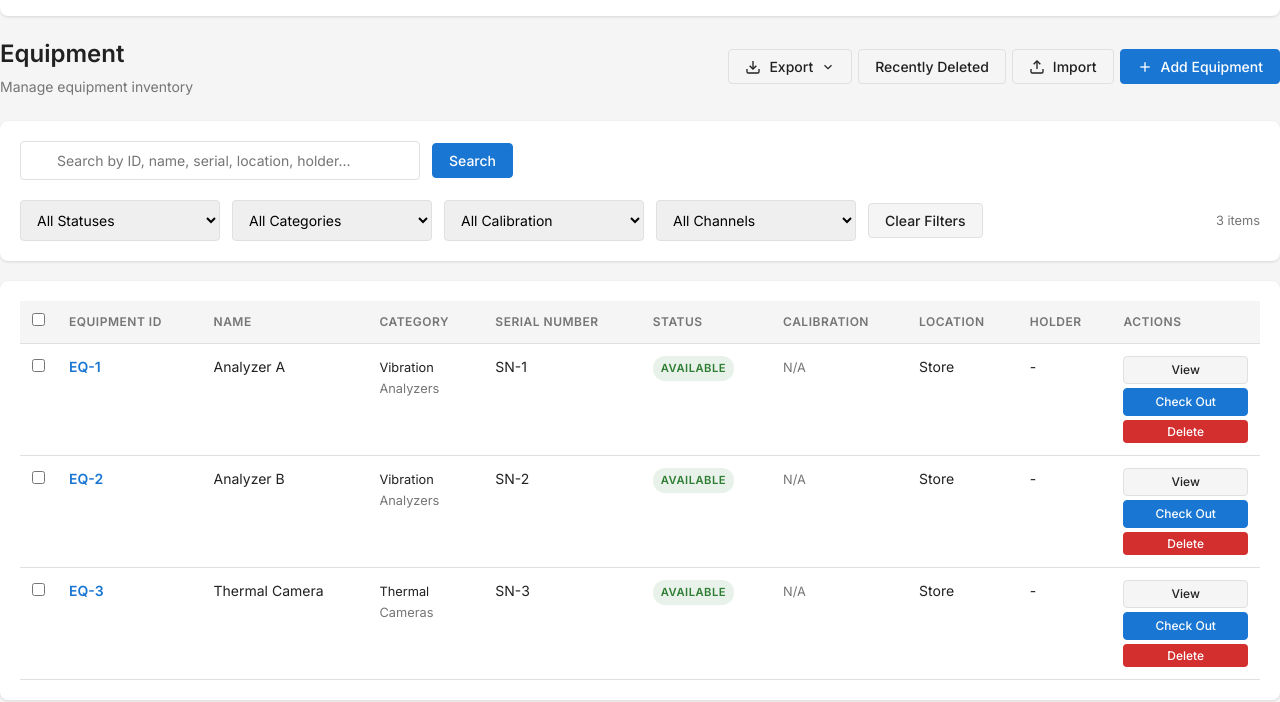
Test: Equipment bulk edit › Bulk Edit opens with the selected count shown
(page scrolled)
Step 1. Click the checkbox named "Select EQ-1" → x=38, y=366, box [32, 359, 45, 372]
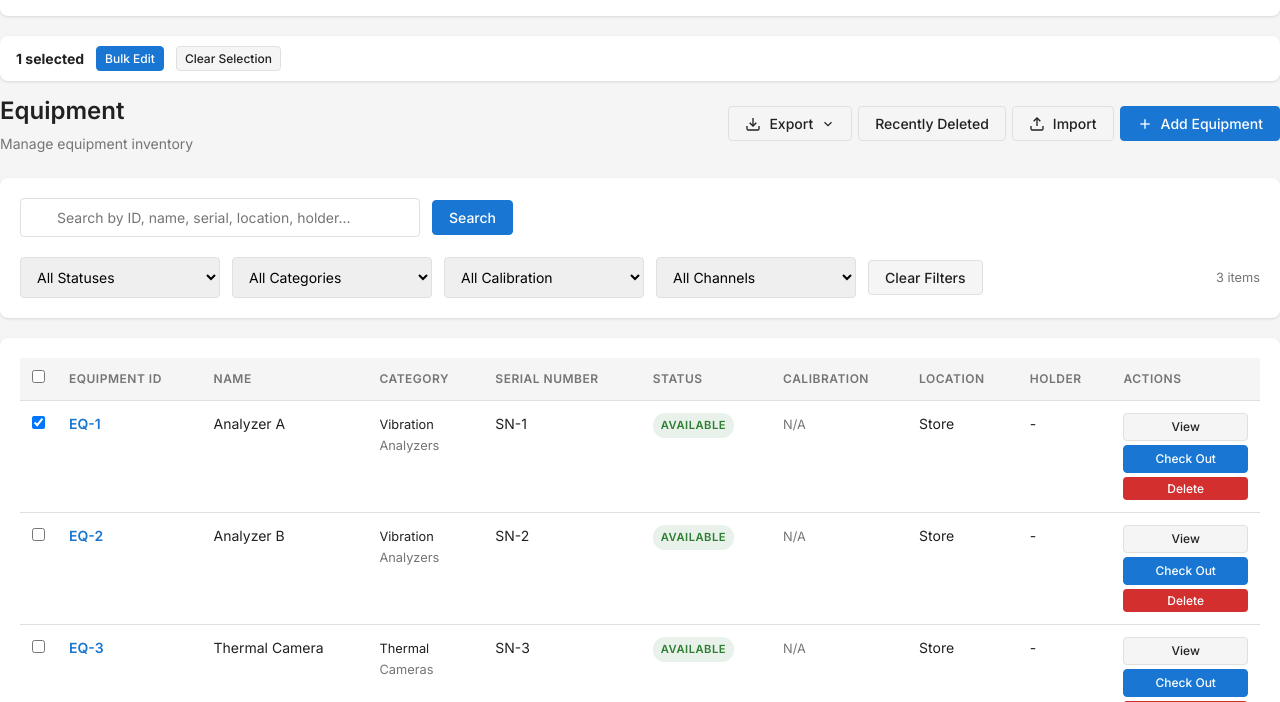
Step 2. Click the checkbox named "Select EQ-2" → x=38, y=534, box [32, 528, 45, 541]
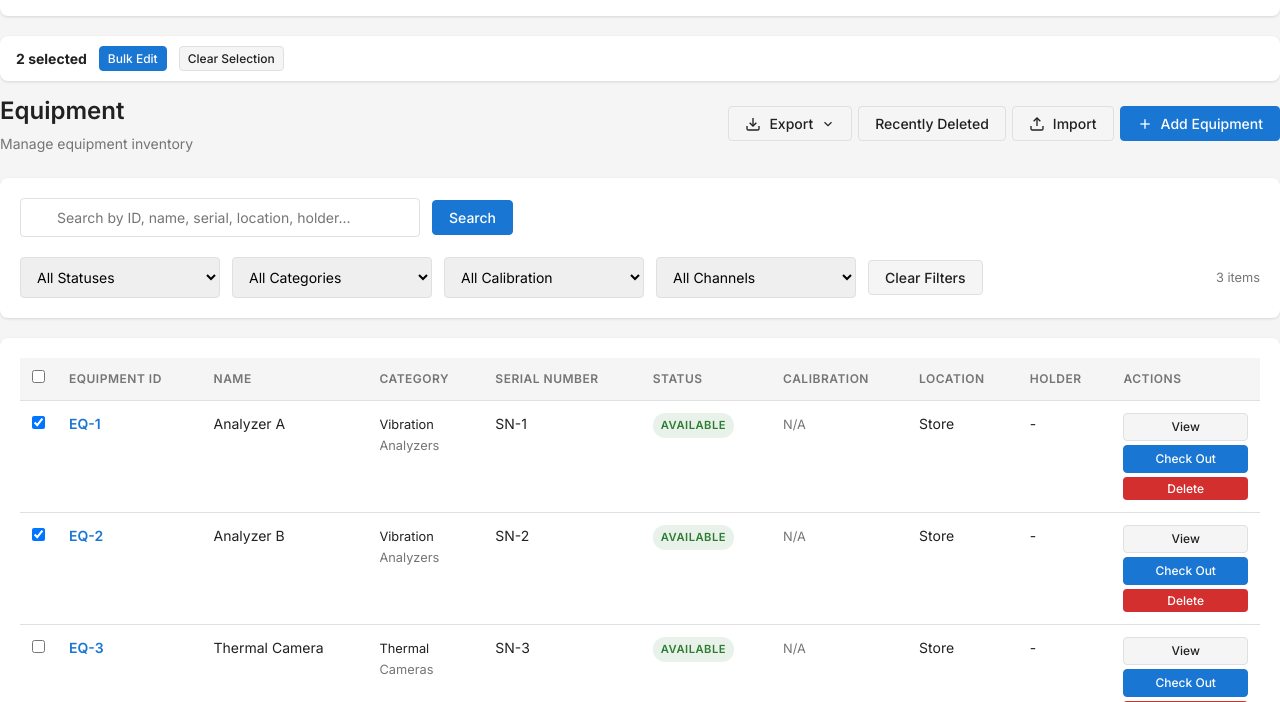
Step 3. Click the button "Bulk Edit" → x=133, y=58, box [99, 46, 167, 71]
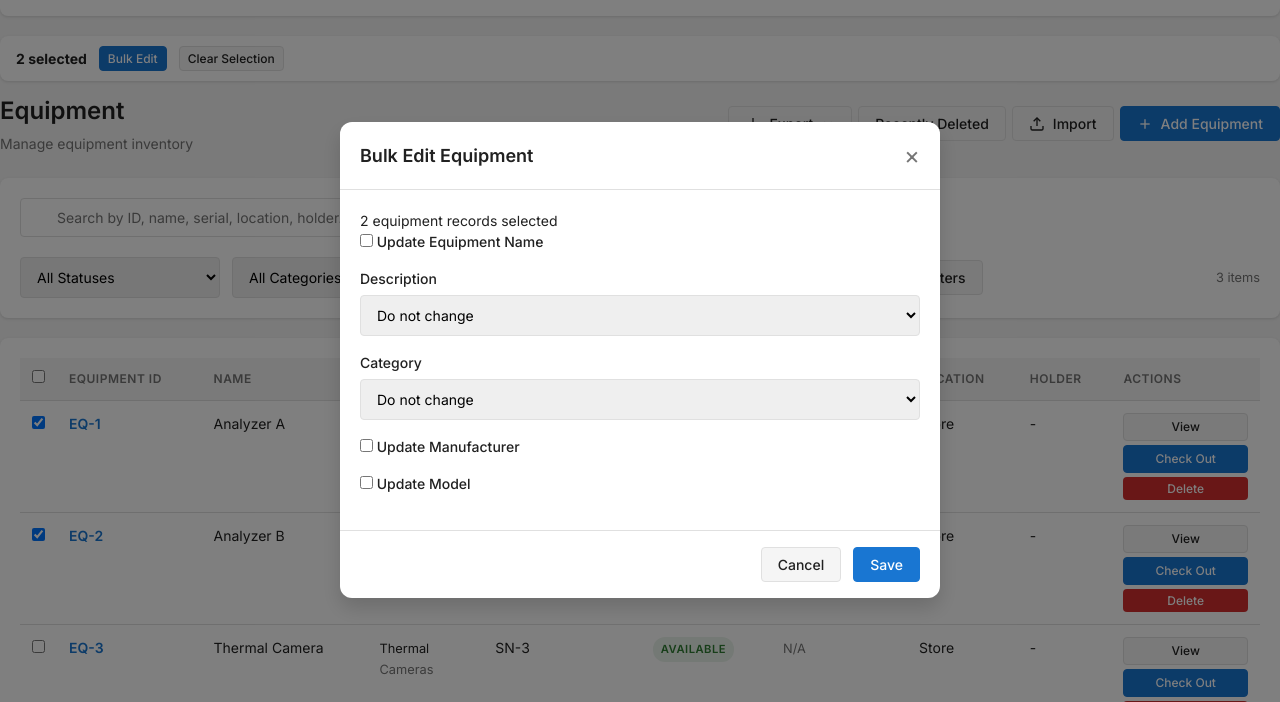
Result: the text "2 equipment records selected" is shown at [360, 212, 558, 229]
Result: the text "Bulk Edit Equipment" is shown at [360, 142, 533, 169]
